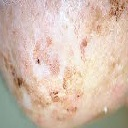Actinic: (34, 41, 62, 75), (6, 60, 27, 93), (47, 87, 74, 112), (106, 2, 128, 24)
